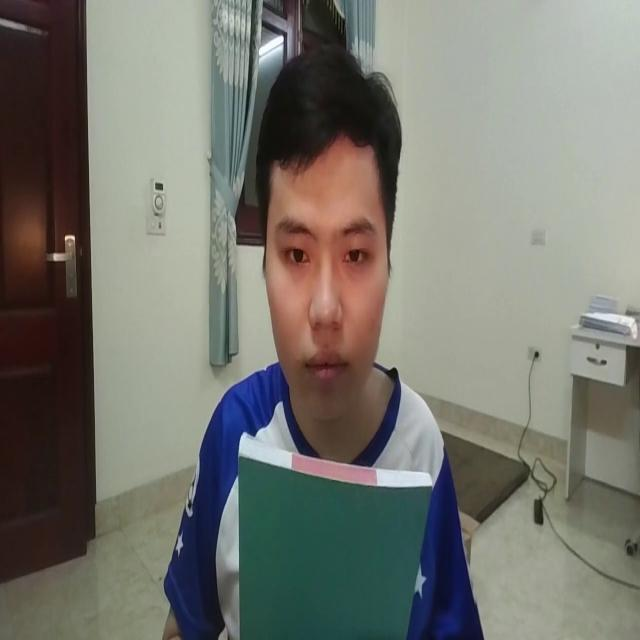book: (229, 406, 439, 640)
student: (151, 42, 521, 640)
